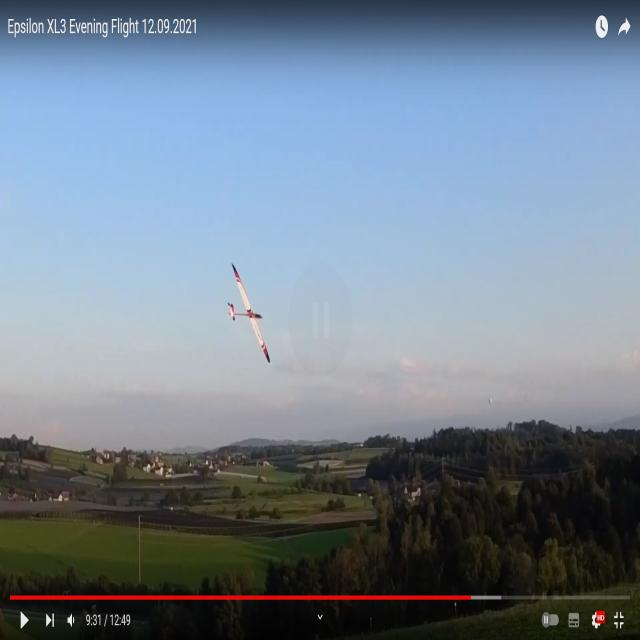iha: (226, 297, 268, 335)
